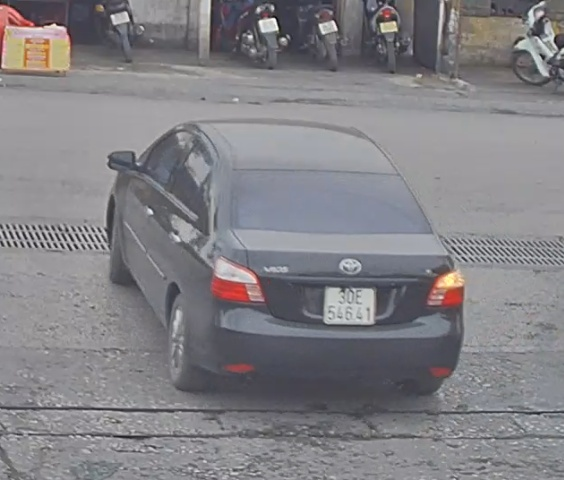vehicle plate: (316, 277, 376, 328)
